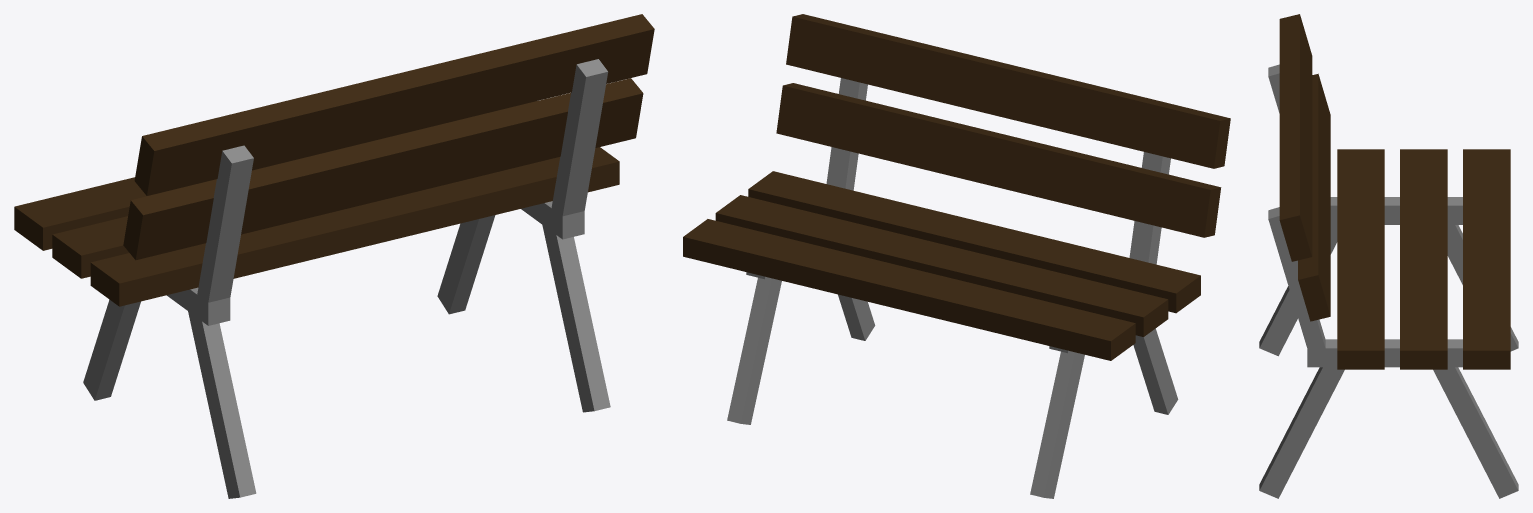
File: Bench.FBX
3 renders of one model, left to right at view 1: azimuth 30°, elevation 25°; view 2: azimuth 150°, elevation 25°; view 3: azimuth 270°, elevation 25°, orthographic. The views are drawn at different scales.
Parts seen in each view (by area): view 1: Bench; view 2: Bench; view 3: Bench.
Part boxes in pixels (x1,y1,x2,y2): Bench: [14, 14, 654, 498]; Bench: [683, 14, 1230, 498]; Bench: [1259, 14, 1518, 498].
Bounding box in the file's own units: 2.58 × 1.83 × 1.4.
